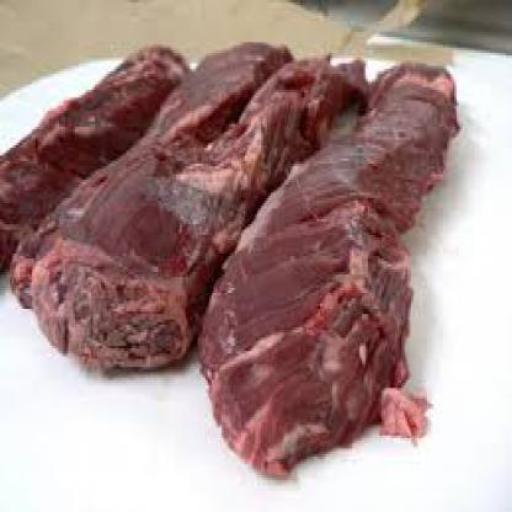biodegradable: (6, 39, 364, 367), (196, 58, 456, 472), (0, 42, 185, 272)
